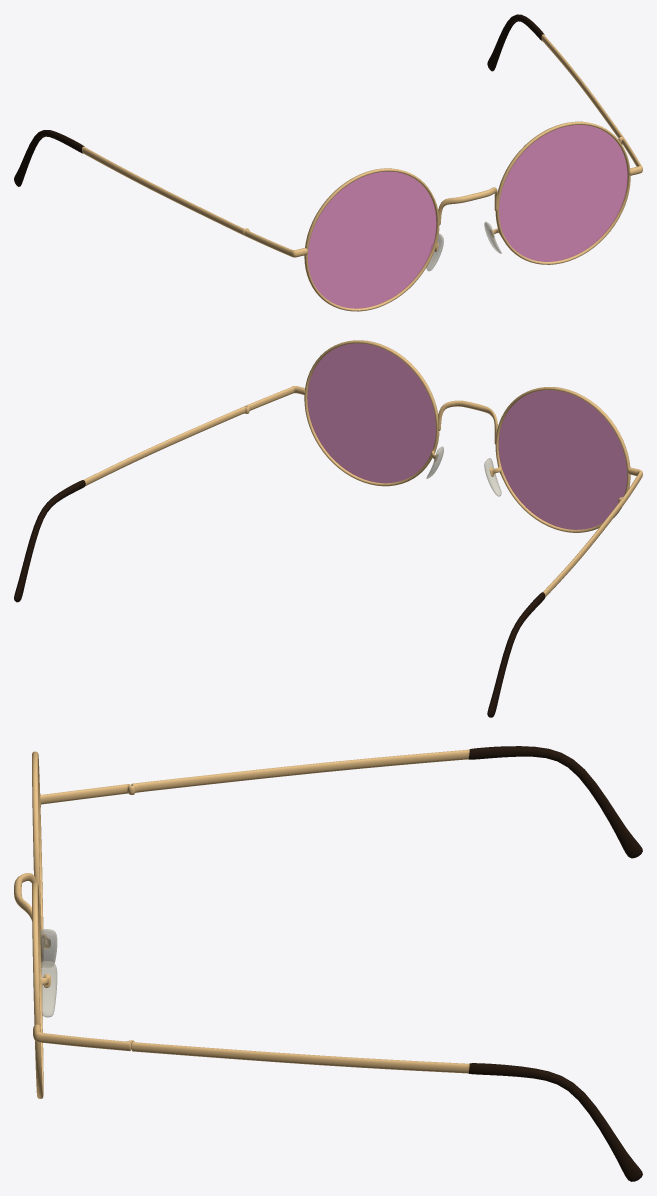
Rendered from gold.glb.
The picture shows the model from 3 angles, top to bottom: view 1: azimuth 30°, elevation 25°; view 2: azimuth 150°, elevation 25°; view 3: azimuth 270°, elevation 25°; orthographic projection. The views are drawn at different scales.
Parts seen in each view (by area): view 1: Cylinder.002, Cube.001, Cylinder.001, Cylinder.003; view 2: Cylinder.002, Cube.001, Cylinder.001, Cylinder.003; view 3: Cube.001, Cylinder.001, Cylinder.003.
Part boxes in pixels (<box>): Cylinder.002: <box>308,125,627,308</box>; Cube.001: <box>14,14,642,257</box>; Cylinder.001: <box>304,121,630,311</box>; Cylinder.003: <box>426,221,501,271</box>; Cylinder.002: <box>307,343,627,529</box>; Cube.001: <box>14,386,642,717</box>; Cylinder.001: <box>304,340,630,532</box>; Cylinder.003: <box>426,446,501,496</box>; Cube.001: <box>14,746,642,1181</box>; Cylinder.001: <box>32,751,50,1098</box>; Cylinder.003: <box>40,929,57,1017</box>.
Size of the model in its own units: 1.52 by 0.4252 by 1.23.
